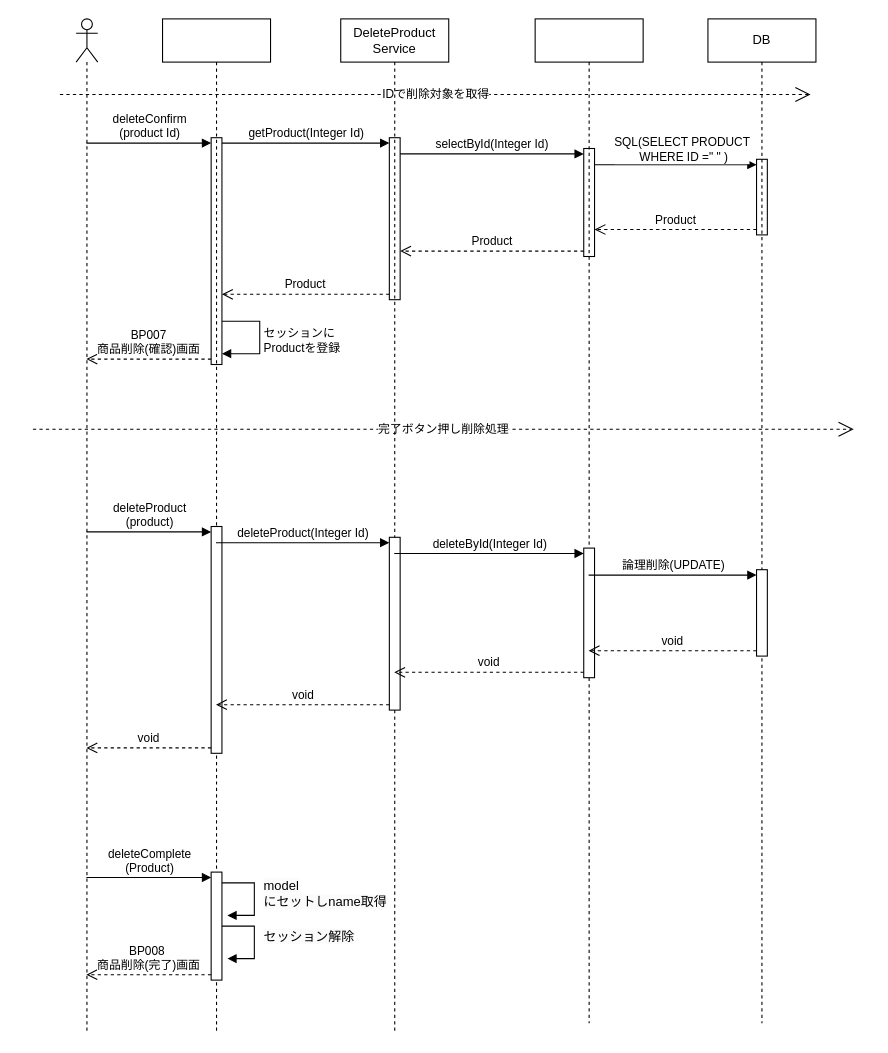
This 888x1053 diagram has some shape labels left out. The box of each missing label's shape, as (x1, y1, x2, y2) in pixels:
DeleteProduct Controller: (161, 18, 271, 1034)
DeleteProduct Repository: (534, 18, 643, 1023)
